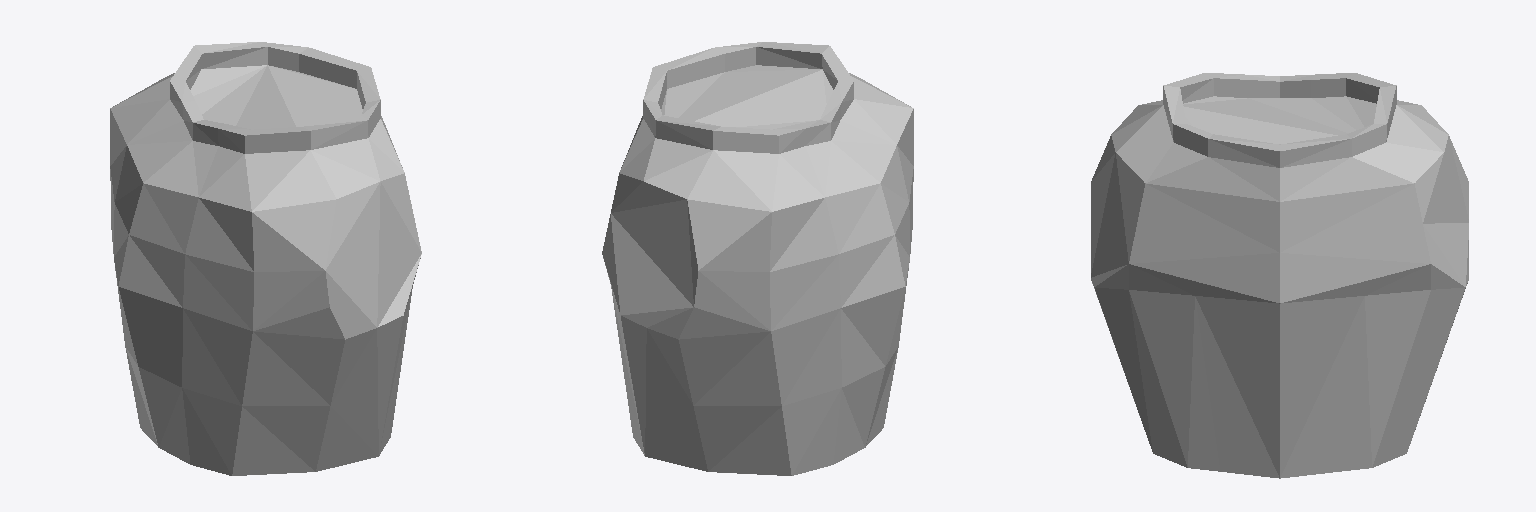
File: Boss_Body.obj
3 renders of one model, left to right at view 1: azimuth 30°, elevation 25°; view 2: azimuth 150°, elevation 25°; view 3: azimuth 270°, elevation 25°, orthographic.
Visible parts, largest first — view 1: 立方体.005; view 2: 立方体.005; view 3: 立方体.005.
Part boxes in pixels (left/top/right/bottom): 立方体.005: left=110, top=42, right=421, bottom=475; 立方体.005: left=602, top=42, right=913, bottom=475; 立方体.005: left=1091, top=73, right=1468, bottom=478.
Bounding box in the file's own units: 4.27 × 5.01 × 5.1.